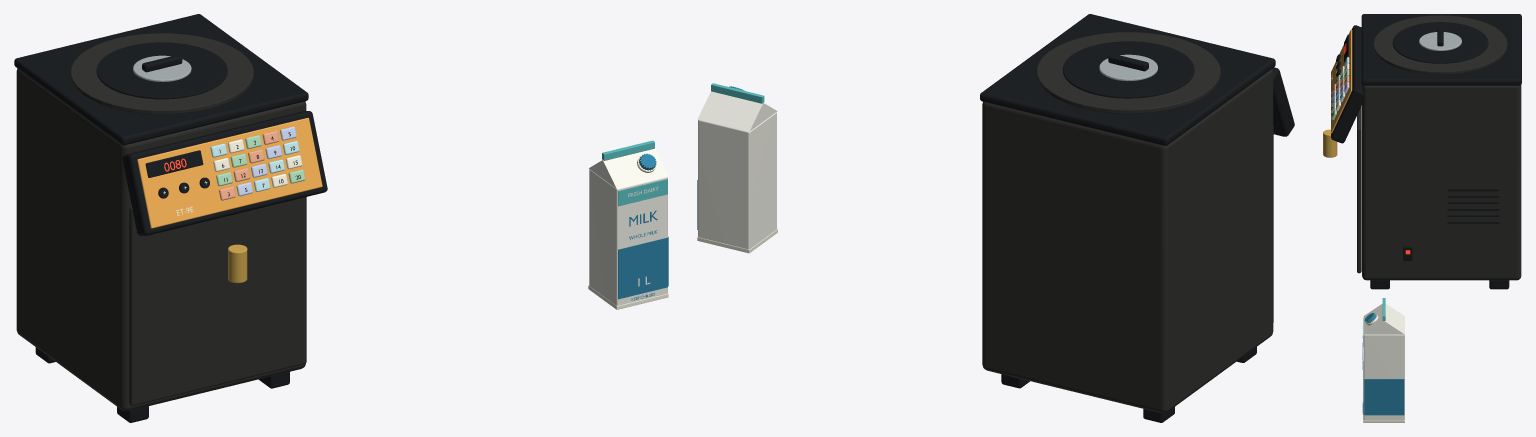
The model's file is equipment-updates.glb.
The picture shows the model from 3 angles, left to right: view 1: azimuth 30°, elevation 25°; view 2: azimuth 150°, elevation 25°; view 3: azimuth 270°, elevation 25°; orthographic projection. The views are drawn at different scales.
Visible parts, largest first — view 1: ET9E / charcoal cabinet, ET9E / front face, ET9E / upper cover, ET9E / amber membrane, ET9E / circular top lid, Milk carton / paper body, ET9E / lid recessed ring, ET9E / panel bezel, Milk carton / blue lower band, Milk carton / folded gable, ET9E / lid steel center, ET9E / LED window (+2 smaller); view 2: ET9E / charcoal cabinet, ET9E / upper cover, Milk carton / paper body, ET9E / circular top lid, ET9E / lid recessed ring, Milk carton / folded gable, ET9E / panel bezel, ET9E / lid steel center; view 3: ET9E / charcoal cabinet, ET9E / upper cover, ET9E / circular top lid, ET9E / lid recessed ring, Milk carton / paper body, Milk carton / side blue band, ET9E / panel bezel, Milk carton / folded gable, ET9E / front face, ET9E / amber membrane, ET9E / lid steel center, ET9E / brass nozzle (+1 smaller).
Part boxes in pixels (box(x1,y1,x2,y2)): ET9E / charcoal cabinet: box(16, 68, 306, 411); ET9E / front face: box(129, 197, 306, 405); ET9E / upper cover: box(14, 14, 308, 145); ET9E / amber membrane: box(137, 118, 322, 228); ET9E / circular top lid: box(70, 33, 253, 114); Milk carton / paper body: box(589, 169, 667, 305); ET9E / lid recessed ring: box(96, 42, 227, 99); ET9E / panel bezel: box(122, 111, 327, 235); Milk carton / blue lower band: box(618, 237, 667, 299); Milk carton / folded gable: box(589, 148, 667, 188); ET9E / lid steel center: box(133, 55, 191, 81); ET9E / LED window: box(145, 150, 203, 177); ET9E / charcoal cabinet: box(982, 68, 1273, 413); ET9E / upper cover: box(980, 14, 1275, 145); Milk carton / paper body: box(698, 112, 776, 249); ET9E / circular top lid: box(1036, 32, 1220, 113); ET9E / lid recessed ring: box(1062, 41, 1194, 98); Milk carton / folded gable: box(697, 91, 777, 131); ET9E / panel bezel: box(1272, 67, 1294, 136); ET9E / lid steel center: box(1099, 54, 1157, 81); ET9E / charcoal cabinet: box(1362, 85, 1521, 280); ET9E / upper cover: box(1361, 14, 1521, 85); ET9E / circular top lid: box(1373, 15, 1507, 74); ET9E / lid recessed ring: box(1392, 22, 1488, 63); Milk carton / paper body: box(1363, 334, 1404, 420); Milk carton / side blue band: box(1364, 379, 1404, 415); ET9E / panel bezel: box(1331, 25, 1364, 143); Milk carton / folded gable: box(1363, 304, 1404, 334); ET9E / front face: box(1357, 106, 1361, 273); ET9E / amber membrane: box(1331, 29, 1352, 133); ET9E / lid steel center: box(1419, 32, 1461, 50); ET9E / brass nozzle: box(1323, 129, 1337, 157).
Bounding box in the file's own units: 1.17 × 0.6295 × 0.501.
